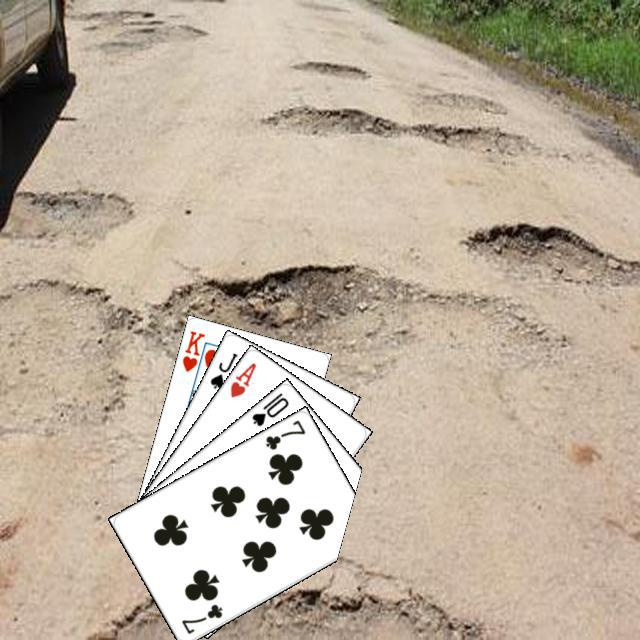10s: (247, 387, 290, 428)
7c: (176, 599, 224, 636), (260, 415, 307, 452)
Ah: (225, 357, 258, 399)
Js: (205, 348, 239, 390)
Kh: (177, 326, 210, 380)
